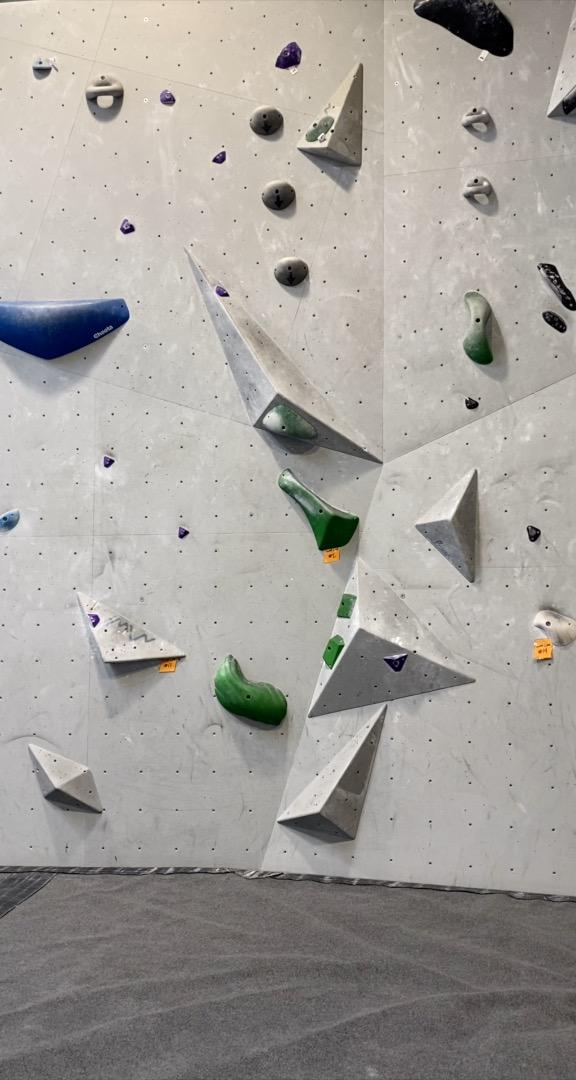holds: (0, 296, 132, 362), (278, 468, 360, 552), (410, 0, 515, 58), (214, 653, 289, 727), (461, 289, 495, 366), (262, 402, 319, 441), (534, 261, 575, 313), (532, 608, 575, 648), (248, 105, 286, 137), (273, 256, 310, 288), (85, 72, 124, 102), (261, 180, 297, 212), (322, 634, 346, 671), (460, 103, 493, 129), (305, 115, 334, 143), (275, 40, 303, 69), (461, 174, 493, 199), (560, 67, 575, 116), (541, 309, 569, 334), (336, 592, 359, 620), (382, 652, 410, 673), (0, 508, 21, 533), (31, 55, 53, 73), (119, 217, 136, 235), (159, 88, 176, 106), (526, 524, 542, 543), (464, 395, 481, 411), (211, 150, 228, 165), (86, 612, 101, 628), (215, 285, 231, 298), (103, 455, 115, 469), (178, 525, 190, 539)
